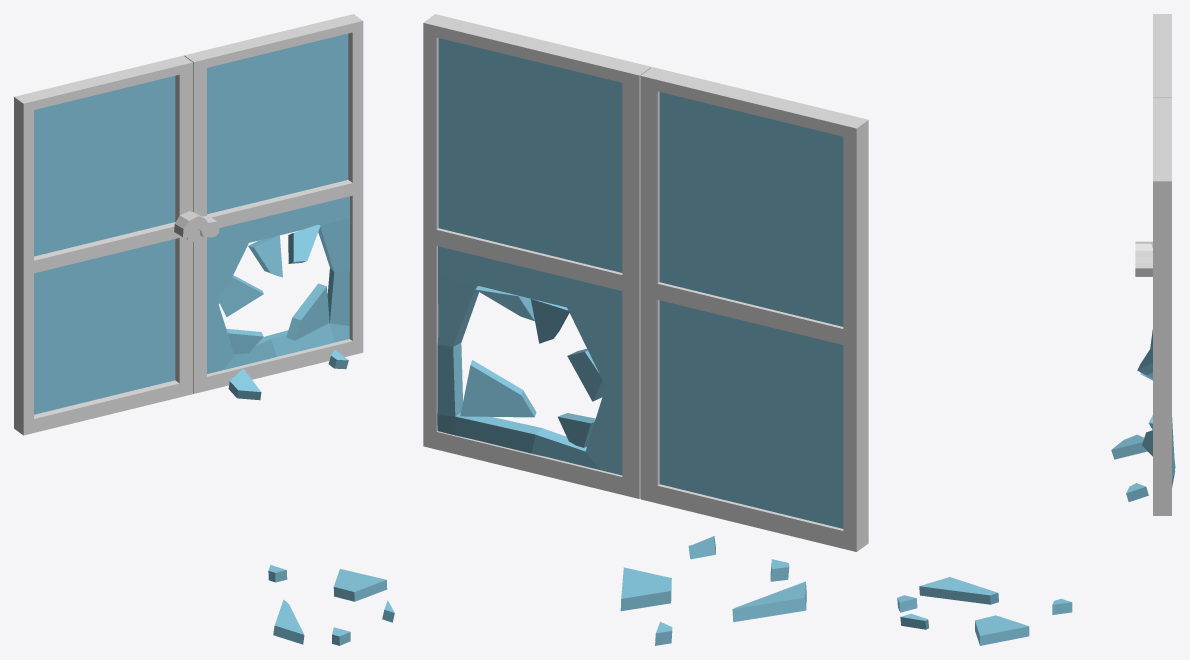
File: Window_Broken.fbx
3 views of the same model, side by side, from view 1: azimuth 30°, elevation 25°; view 2: azimuth 150°, elevation 25°; view 3: azimuth 270°, elevation 25° (orthographic). The views are drawn at different scales.
Parts seen in each view (by area): view 1: WindoeLeft.002, WindowRight.002, WindowRightBroken, Haka.002; view 2: WindoeLeft.002, WindowRight.002, WindowRightBroken; view 3: WindowRight.002, WindowRightBroken, WindoeLeft.002, Haka.002.
Boxes of the visible parts, bbox=[...] form: WindoeLeft.002: bbox=[14, 55, 192, 435]; WindowRight.002: bbox=[184, 14, 363, 393]; WindowRightBroken: bbox=[207, 196, 394, 645]; Haka.002: bbox=[174, 211, 219, 238]; WindoeLeft.002: bbox=[640, 67, 868, 551]; WindowRight.002: bbox=[423, 14, 651, 498]; WindowRightBroken: bbox=[437, 246, 806, 645]; WindowRight.002: bbox=[1153, 97, 1171, 515]; WindowRightBroken: bbox=[897, 329, 1175, 645]; WindoeLeft.002: bbox=[1153, 14, 1171, 97]; Haka.002: bbox=[1135, 241, 1152, 276].
Size of the model in its own units: 1.45 by 2.02 by 1.02.
